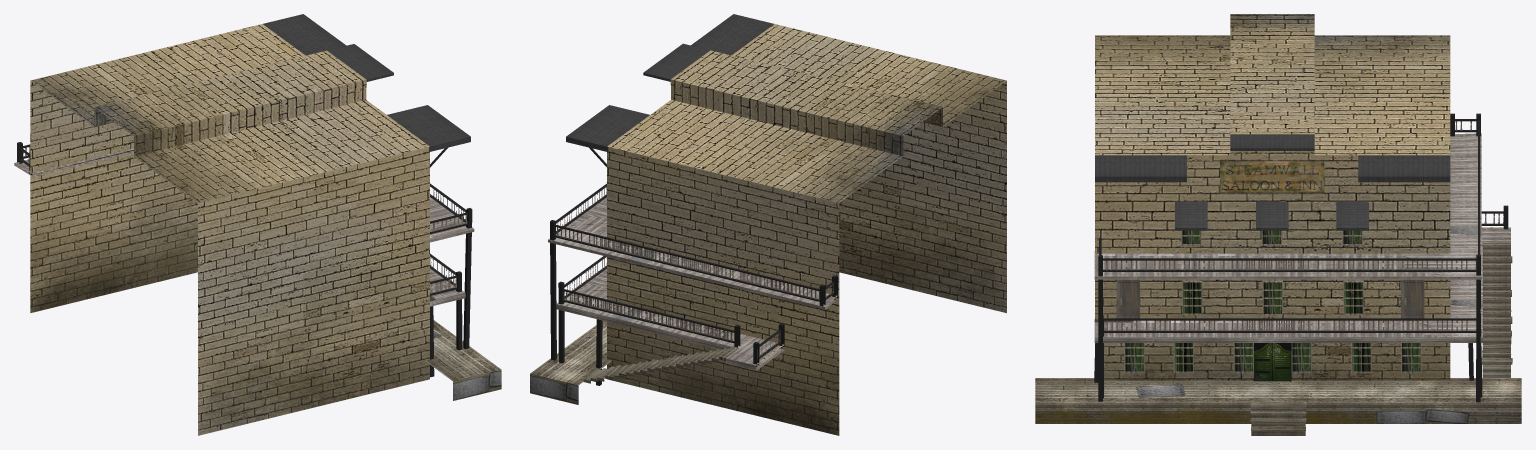
The model's file is bld_saloon_All_Together.fbx.
3 views of the same model, side by side, from view 1: azimuth 30°, elevation 25°; view 2: azimuth 150°, elevation 25°; view 3: azimuth 270°, elevation 25° (orthographic). The views are drawn at different scales.
Visible parts, largest first — view 1: polySurface246; view 2: polySurface246; view 3: polySurface246.
Boxes of the visible parts, x1,y1,x2,y2 form: polySurface246: (14,14,501,435); polySurface246: (530,14,1006,435); polySurface246: (1035,14,1521,435).
Bounding box in the file's own units: 2046 × 1648 × 2712.
Materials: 1 (1 with a texture image).
